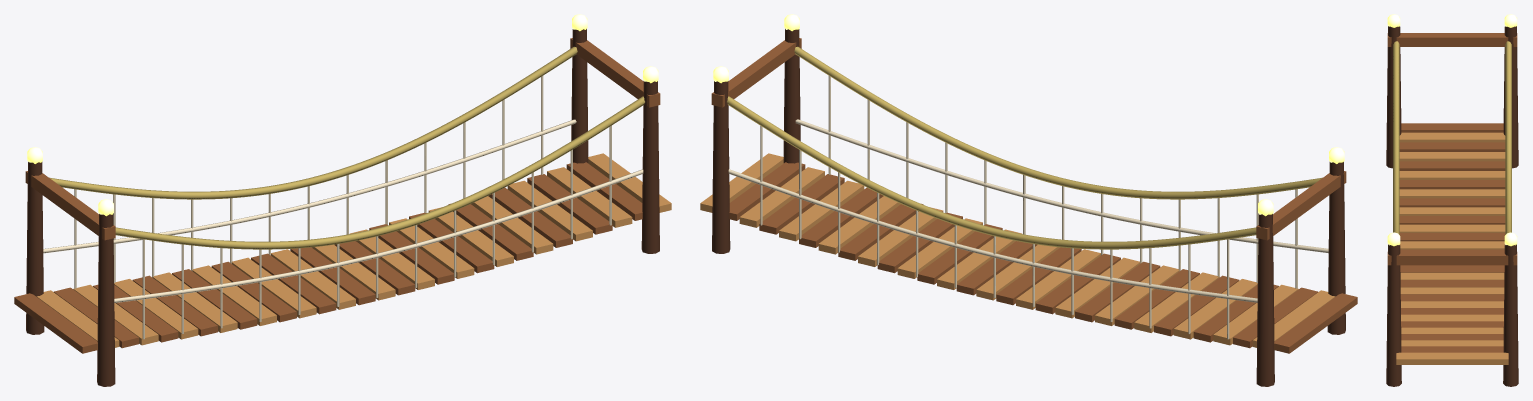
The model's file is suspension-bridge.glb.
3 views of the same model, side by side, from view 1: azimuth 30°, elevation 25°; view 2: azimuth 150°, elevation 25°; view 3: azimuth 270°, elevation 25° (orthographic). The views are drawn at different scales.
Visible parts, largest first — view 1: Mesh_wood, Mesh_lightWood, Mesh_cream, Mesh_darkWood, Mesh_bamboo, Mesh_glowWarm; view 2: Mesh_wood, Mesh_lightWood, Mesh_cream, Mesh_darkWood, Mesh_bamboo, Mesh_glowWarm; view 3: Mesh_wood, Mesh_lightWood, Mesh_darkWood, Mesh_bamboo, Mesh_glowWarm.
Part boxes in pixels (bbox=[...]): Mesh_wood: bbox=[14, 38, 660, 353]; Mesh_lightWood: bbox=[36, 153, 671, 347]; Mesh_cream: bbox=[43, 76, 643, 339]; Mesh_darkWood: bbox=[26, 29, 659, 386]; Mesh_bamboo: bbox=[49, 46, 644, 249]; Mesh_glowWarm: bbox=[27, 14, 658, 216]; Mesh_wood: bbox=[711, 38, 1357, 353]; Mesh_lightWood: bbox=[700, 153, 1335, 347]; Mesh_cream: bbox=[728, 76, 1328, 339]; Mesh_darkWood: bbox=[712, 29, 1345, 386]; Mesh_bamboo: bbox=[727, 46, 1322, 249]; Mesh_glowWarm: bbox=[713, 14, 1344, 216]; Mesh_wood: bbox=[1387, 33, 1517, 352]; Mesh_lightWood: bbox=[1396, 132, 1508, 364]; Mesh_darkWood: bbox=[1386, 26, 1518, 386]; Mesh_bamboo: bbox=[1393, 41, 1511, 234]; Mesh_glowWarm: bbox=[1387, 14, 1517, 246].
Size of the model in its own units: 12.94 by 3.85 by 3.06.
